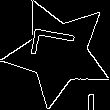L_E: (30, 33, 86, 72)
